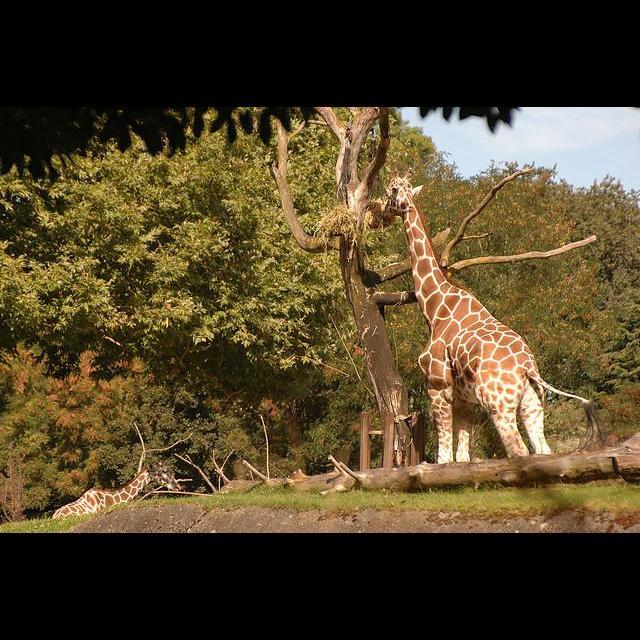giraffe: (386, 166, 600, 464), (53, 464, 185, 518)
